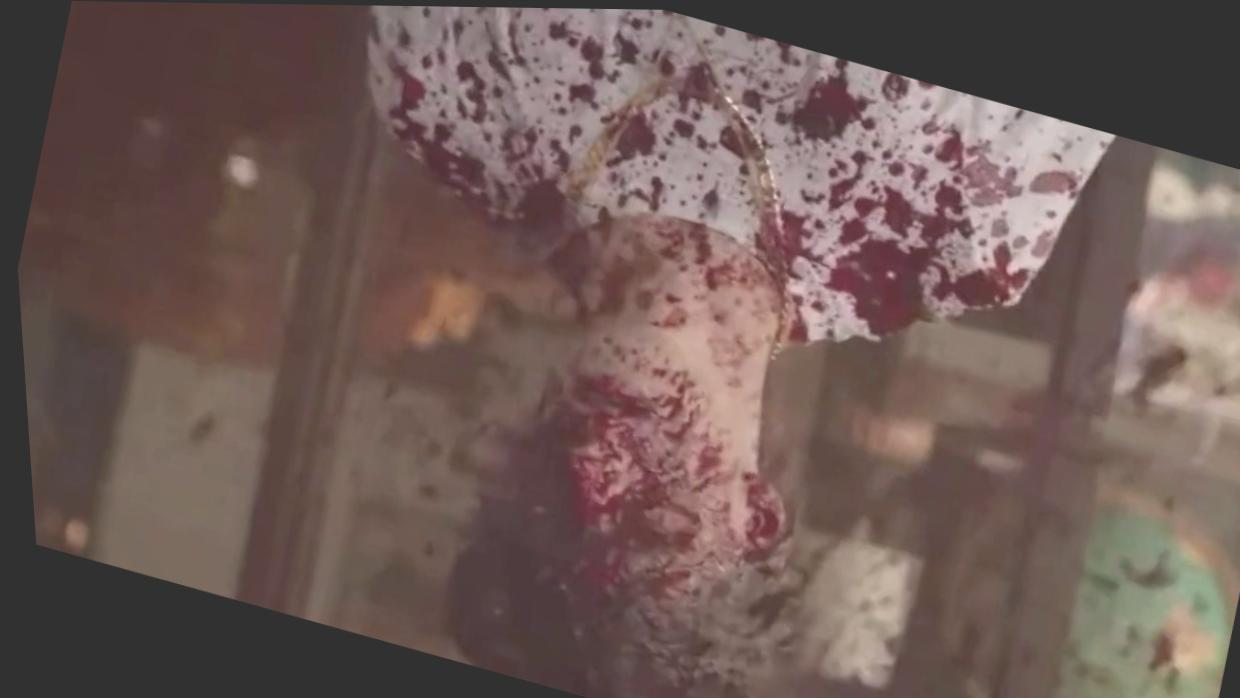Fire: (372, 4, 1118, 698), (806, 351, 1147, 698), (1053, 504, 1225, 698), (1109, 258, 1240, 414)
